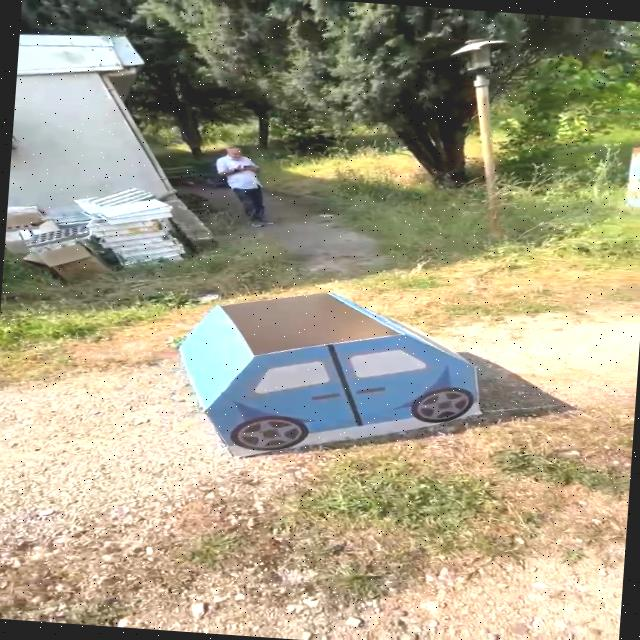blue_car: (153, 266, 508, 495)
